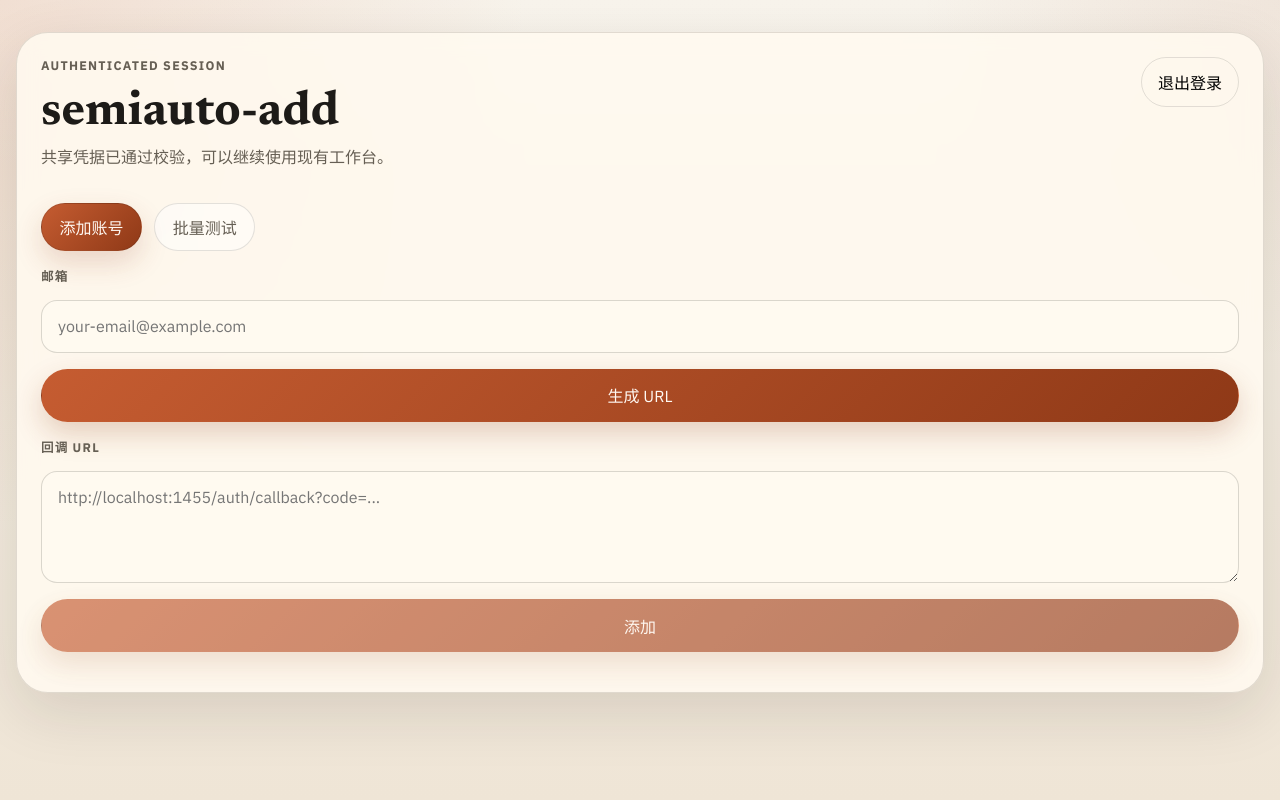
Test case: SemiAutoWorkbench batch-test tab › deletes selected rows and clears stored batch data
Click the tab "批量测试": (205, 227) [154,203,255,251]
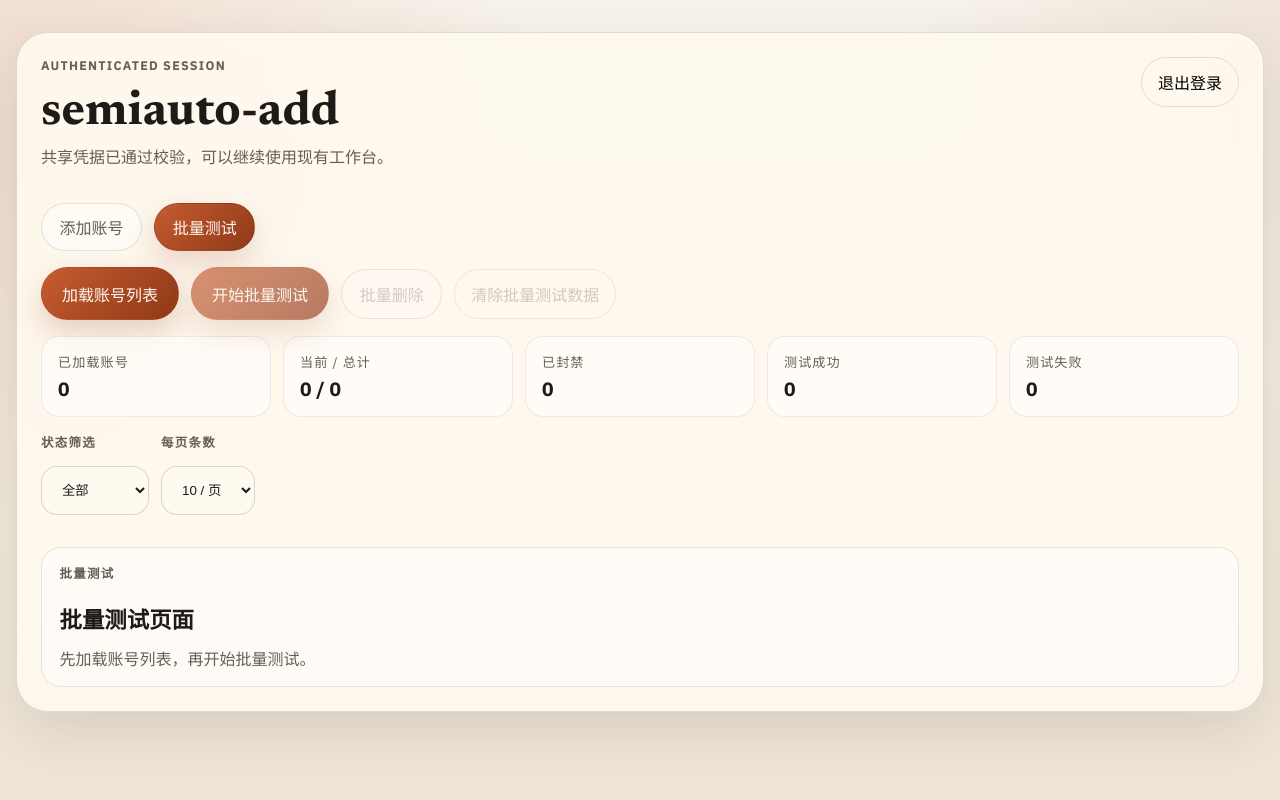
Click the button "加载账号列表": (110, 294) [41,267,179,320]
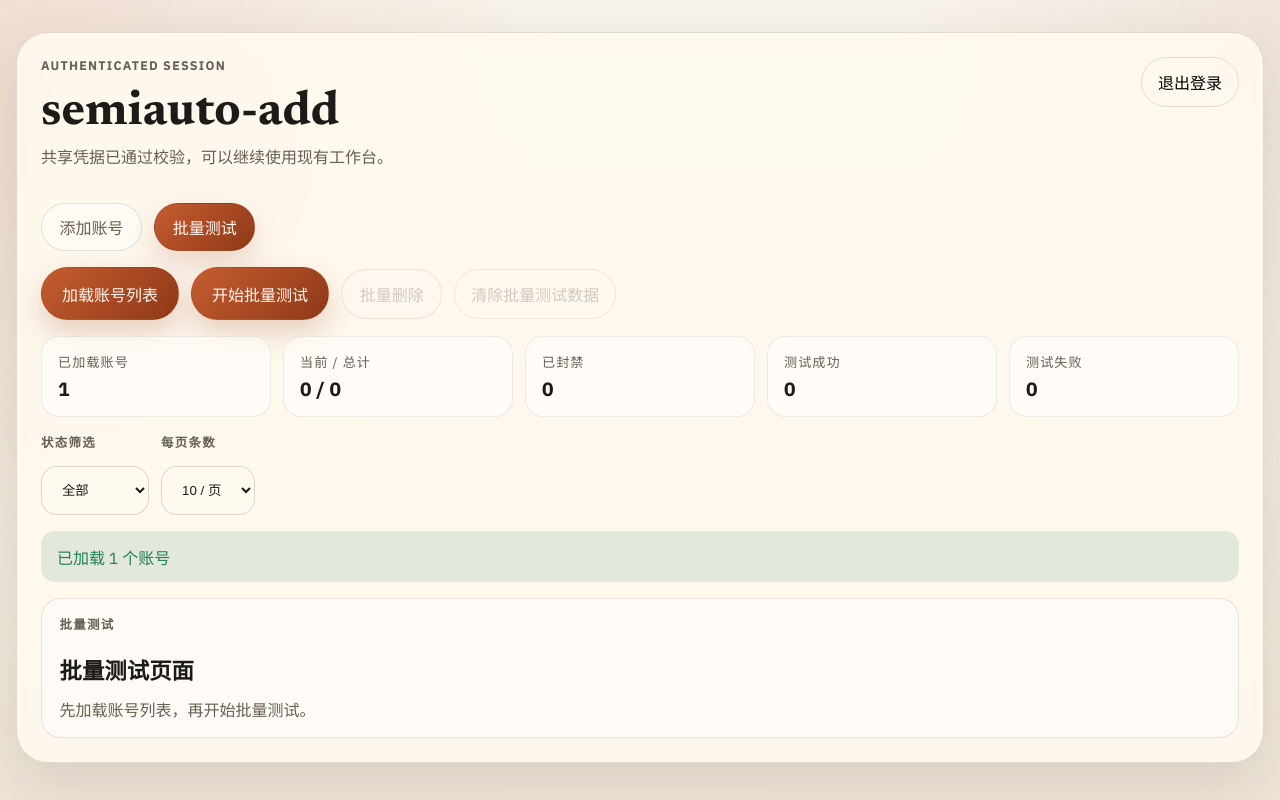
Result: the text "已加载 1 个账号" is shown at [41,531,1239,582]
Click the button "开始批量测试": (260, 294) [191,267,329,320]
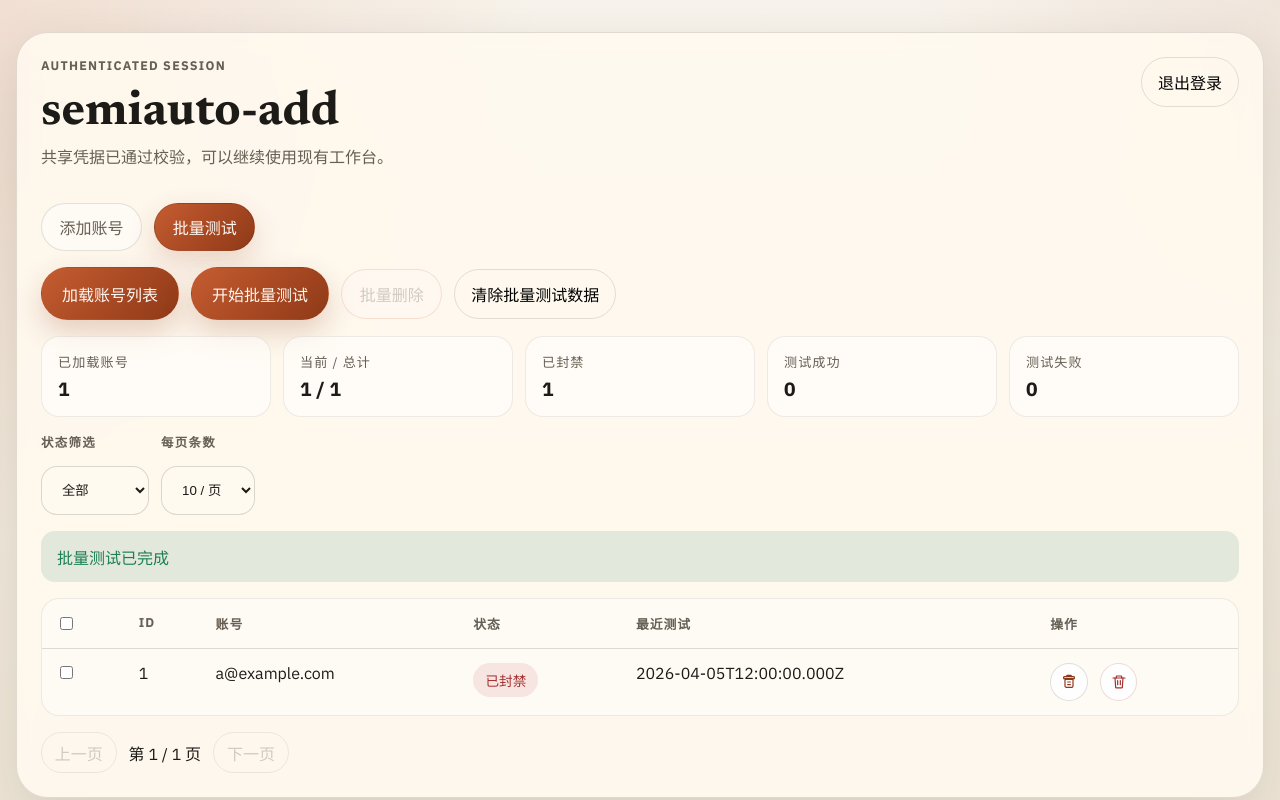
Result: the text "a@example.com" is shown at [202,649,460,716]
Click the checkbox named "选择账号 1": (66, 673) [60,666,73,680]
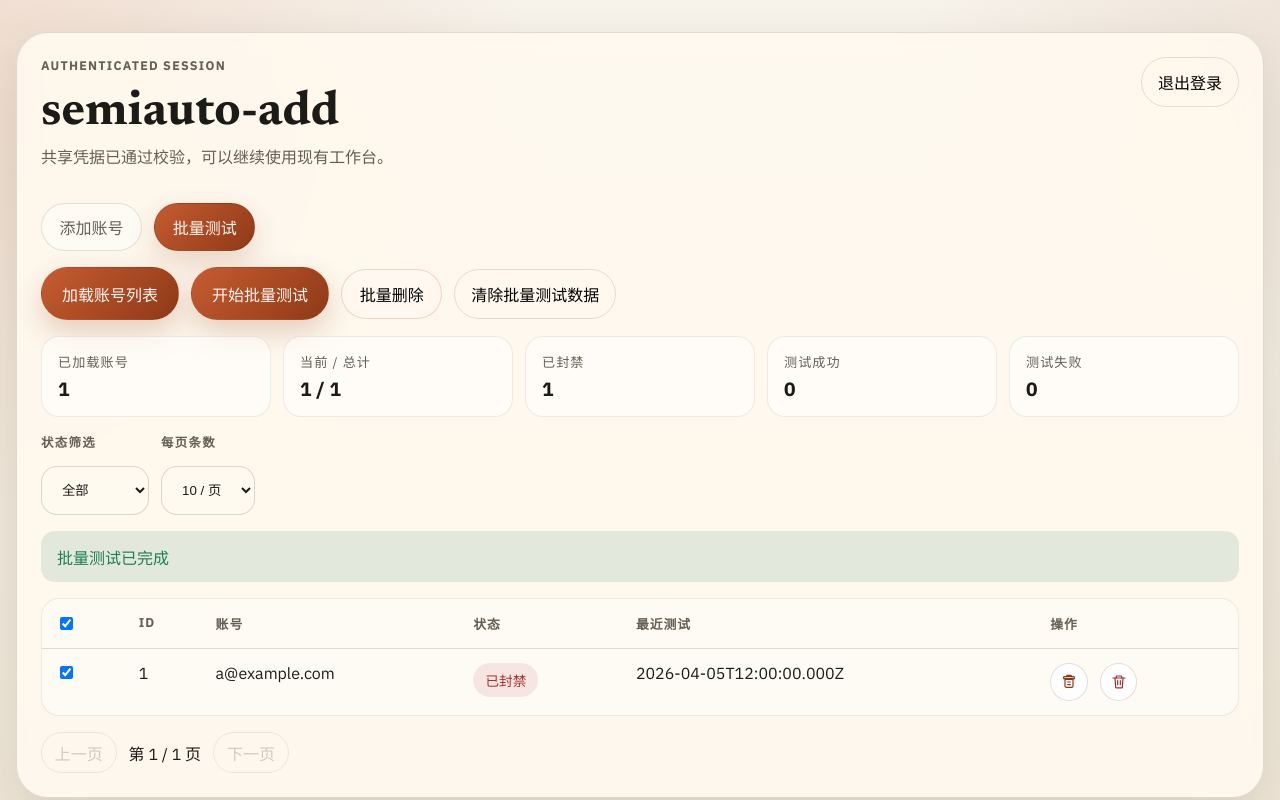
Click the button "批量删除": (392, 294) [341,269,442,319]
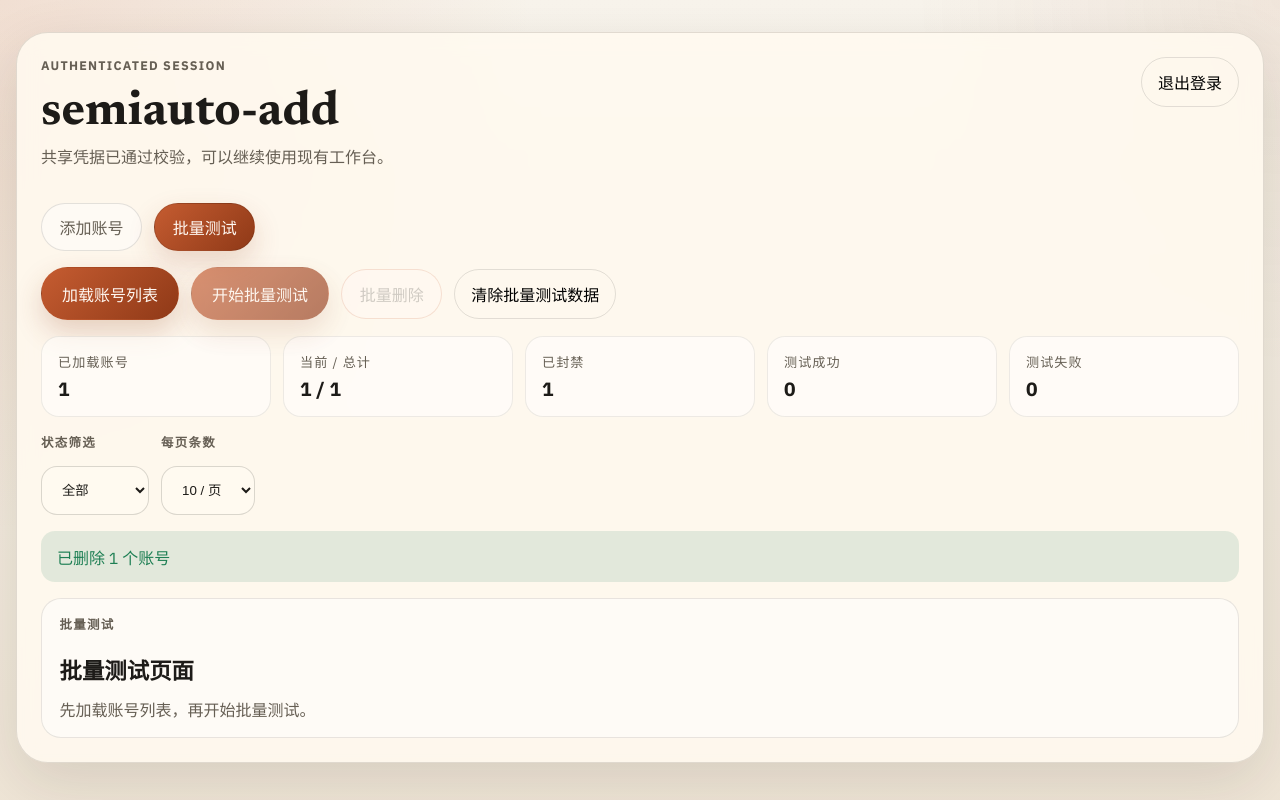
Result: the text "a@example.com" is gone
Click the button "清除批量测试数据": (535, 294) [454,269,616,319]
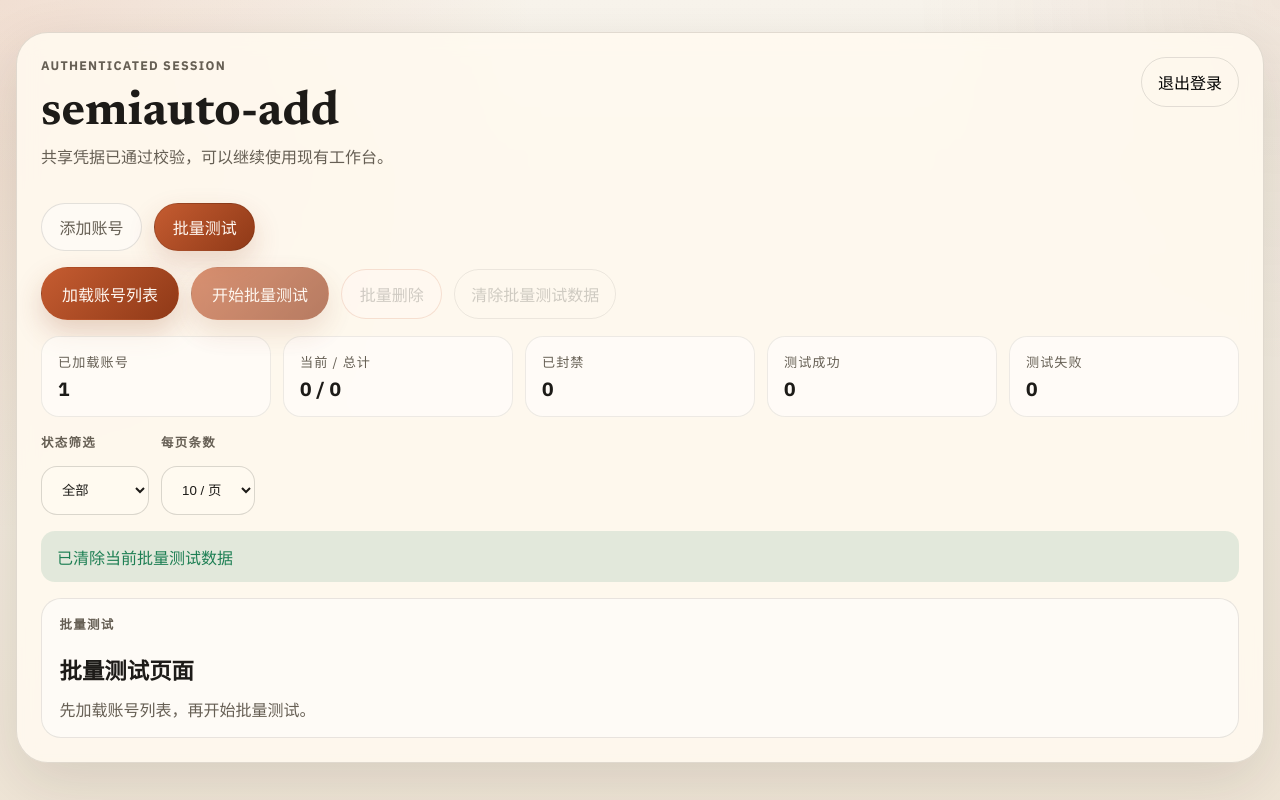
Result: the text "已清除当前批量测试数据" is shown at [41,531,1239,582]
